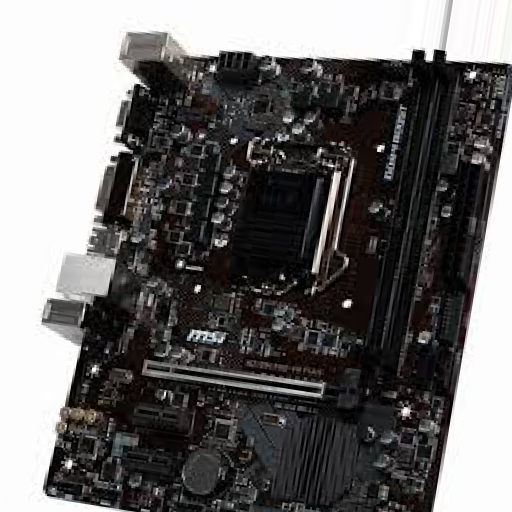CPU: (222, 138, 355, 297)
GPU: (143, 359, 363, 409)
MOTHERBOARD: (44, 56, 509, 512)
RAM: (359, 51, 456, 377)
